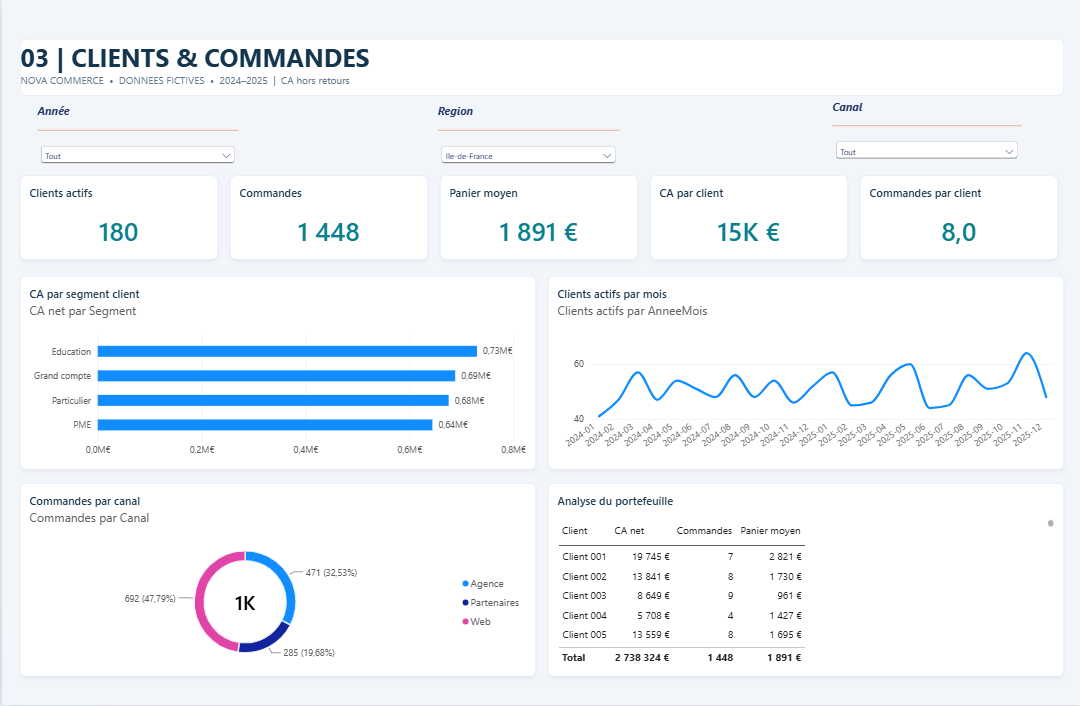

What the dashboard file says about the page in this screenshot:
{"tool":"powerbi","page":{"name":"03 | Clients & commandes","canvas":[1440,900],"ordinal":2},"visuals":[{"type":"textbox","box":[24,12,1392,75],"z":0},{"type":"card","title":"Clients actifs","fields":{"Values":["FactVentes.Clients actifs"]},"box":[24,193,264,112],"z":4000},{"type":"card","title":"Commandes","fields":{"Values":["FactVentes.Commandes"]},"box":[304,193,264,112],"z":5000},{"type":"card","title":"Panier moyen","fields":{"Values":["FactVentes.Panier moyen"]},"box":[584,193,264,112],"z":6000},{"type":"card","title":"CA par client","fields":{"Values":["FactVentes.CA par client"]},"box":[864,193,264,112],"z":7000},{"type":"card","title":"Commandes par client","fields":{"Values":["FactVentes.Commandes par client"]},"box":[1144,193,264,112],"z":8000},{"type":"clusteredBarChart","title":"CA par segment client","fields":{"Category":["DimClient.Segment"],"Y":["FactVentes.CA net"]},"box":[24,327,688,258],"z":9000},{"type":"lineChart","title":"Clients actifs par mois","fields":{"Category":["DimDate.AnneeMois"],"Y":["FactVentes.Clients actifs"]},"box":[728,327,688,258],"z":10000},{"type":"donutChart","title":"Commandes par canal","fields":{"Category":["DimCanal.Canal"],"Y":["FactVentes.Commandes"]},"box":[24,603,688,258],"z":11000},{"type":"tableEx","title":"Analyse du portefeuille","fields":{"Values":["DimClient.Client","FactVentes.CA net","FactVentes.Commandes","FactVentes.Panier moyen"]},"box":[728,603,688,258],"z":12000},{"type":"slicer","title":"Année","fields":{"Values":["DimDate.Annee"]},"box":[42,92.7,278,88],"z":12001},{"type":"slicer","title":"Region","fields":{"Values":["DimRegion.Region"]},"box":[576,92.7,252,88],"z":12002},{"type":"slicer","title":"Canal","fields":{"Values":["DimCanal.Canal"]},"box":[1102,86.7,262,88],"z":12003}]}

Visuals, with their boxes on the page's 1440x900 design canvas (x1, y1, x2, y2). These are canvas units, not pixel positions in the 1080x706 screenshot, which may show the page scaled, cropped or inside an application window:
textbox: select_region(24, 12, 1416, 87)
"Clients actifs" card: select_region(24, 193, 288, 305)
"Commandes" card: select_region(304, 193, 568, 305)
"Panier moyen" card: select_region(584, 193, 848, 305)
"CA par client" card: select_region(864, 193, 1128, 305)
"Commandes par client" card: select_region(1144, 193, 1408, 305)
"CA par segment client" clusteredBarChart: select_region(24, 327, 712, 585)
"Clients actifs par mois" lineChart: select_region(728, 327, 1416, 585)
"Commandes par canal" donutChart: select_region(24, 603, 712, 861)
"Analyse du portefeuille" tableEx: select_region(728, 603, 1416, 861)
"Année" slicer: select_region(42, 93, 320, 181)
"Region" slicer: select_region(576, 93, 828, 181)
"Canal" slicer: select_region(1102, 87, 1364, 175)
